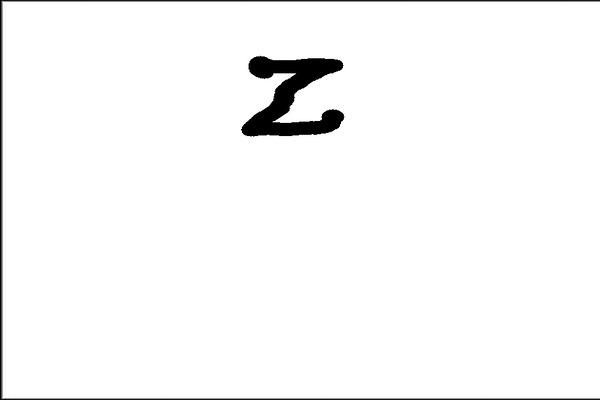Z: (235, 47, 371, 152)
